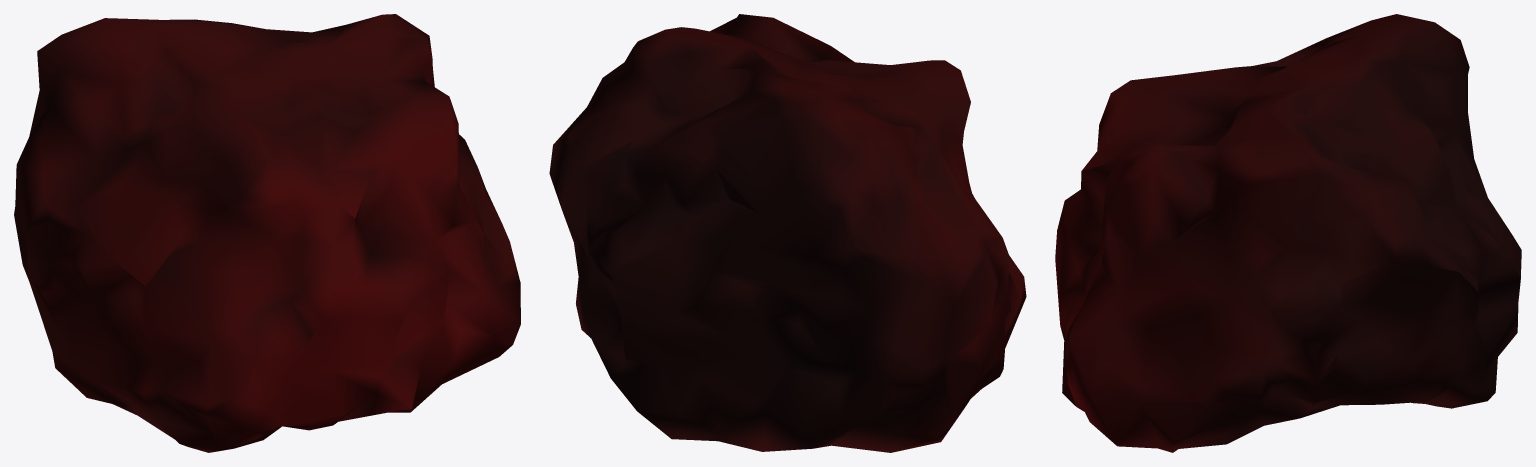
The model's file is geology-rocks-meteoritemedium_v1.fbx.
The picture shows the model from 3 angles, left to right: view 1: azimuth 30°, elevation 25°; view 2: azimuth 150°, elevation 25°; view 3: azimuth 270°, elevation 25°; orthographic projection. The views are drawn at different scales.
Parts seen in each view (by area): view 1: MeteoriteMedium_v1; view 2: MeteoriteMedium_v1; view 3: MeteoriteMedium_v1.
Boxes of the visible parts, <box> form: MeteoriteMedium_v1: <box>14,14,520,452</box>; MeteoriteMedium_v1: <box>549,14,1026,452</box>; MeteoriteMedium_v1: <box>1055,14,1521,452</box>.
Bounding box in the file's own units: 3.27 × 2.57 × 3.1.
